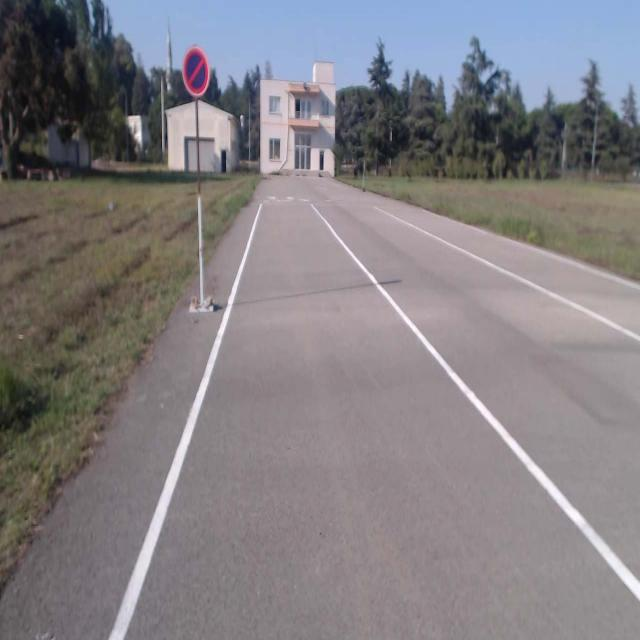parkyasak: (182, 46, 208, 100)
